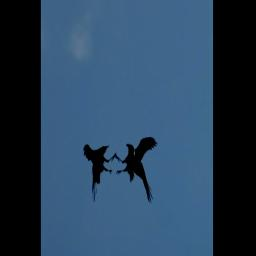Crow: (110, 132, 158, 205)
